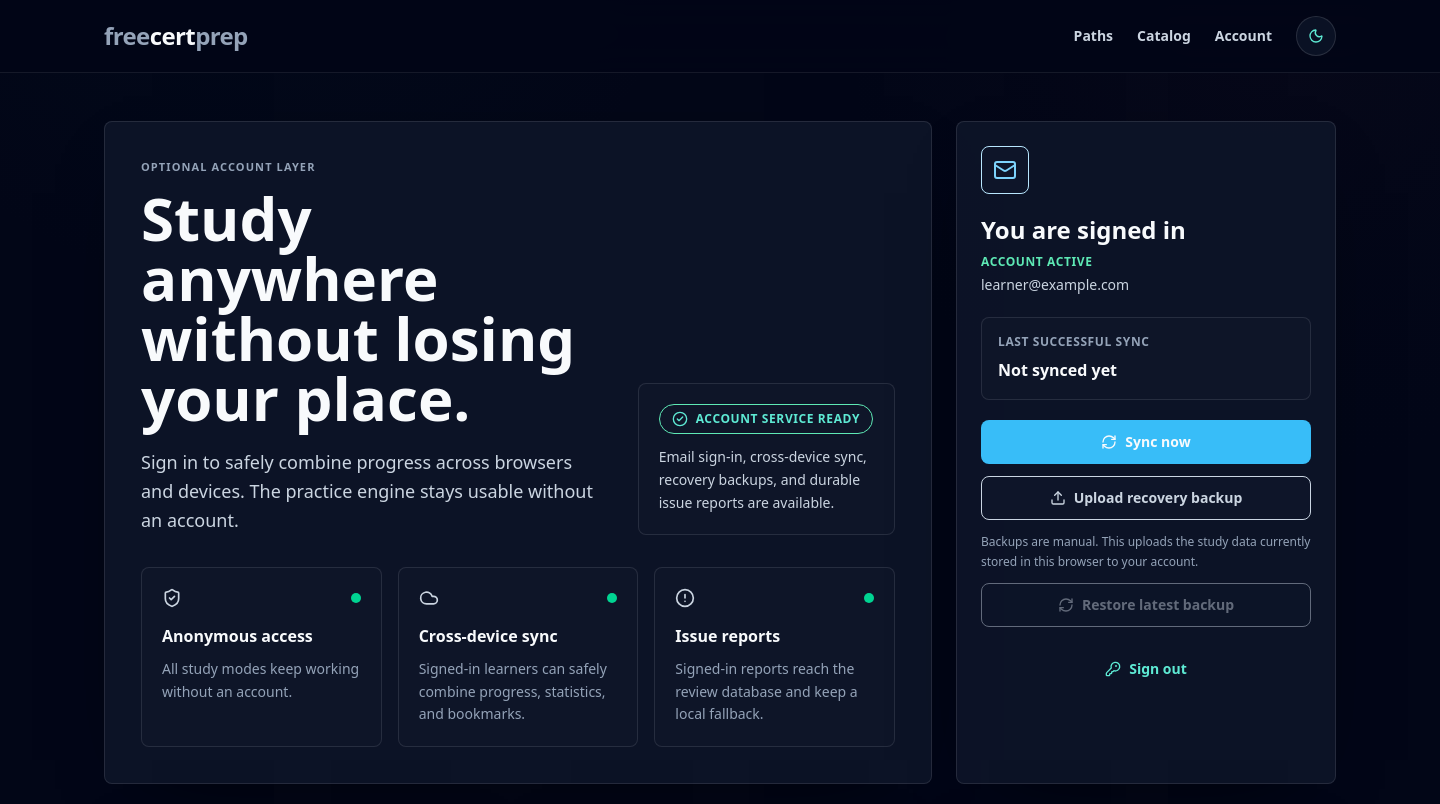
Scenario: Account authentication › merges local and cloud study data when the learner syncs
expect the text "learner@example.com" is shown: met, box [981, 275, 1129, 294]
Click the button "Sync now": (1146, 442) [981, 420, 1311, 464]
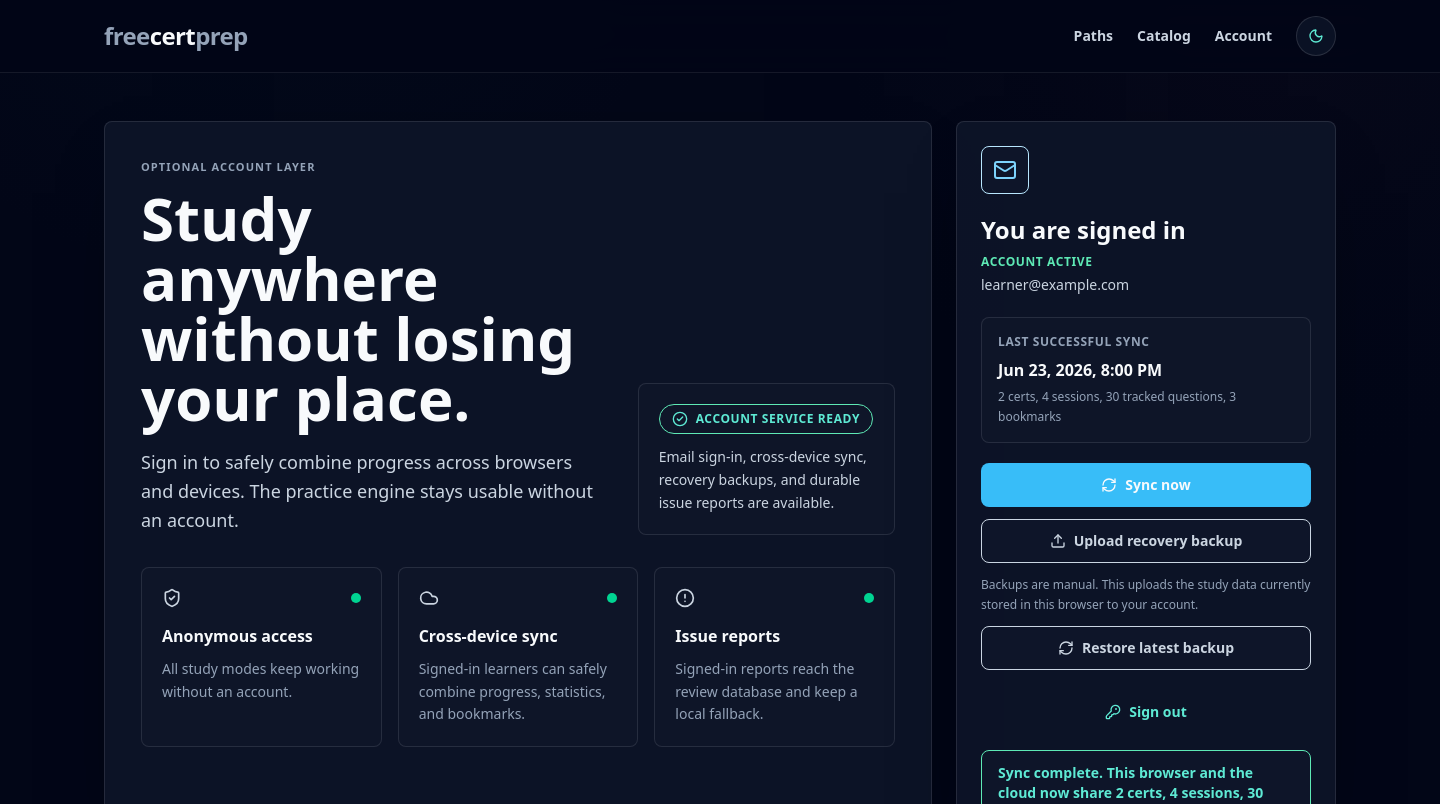
expect the text "2 certs, 4 sessions, 30 tracked questions, 3 bookmarks" is shown: met, box [998, 388, 1236, 425]
